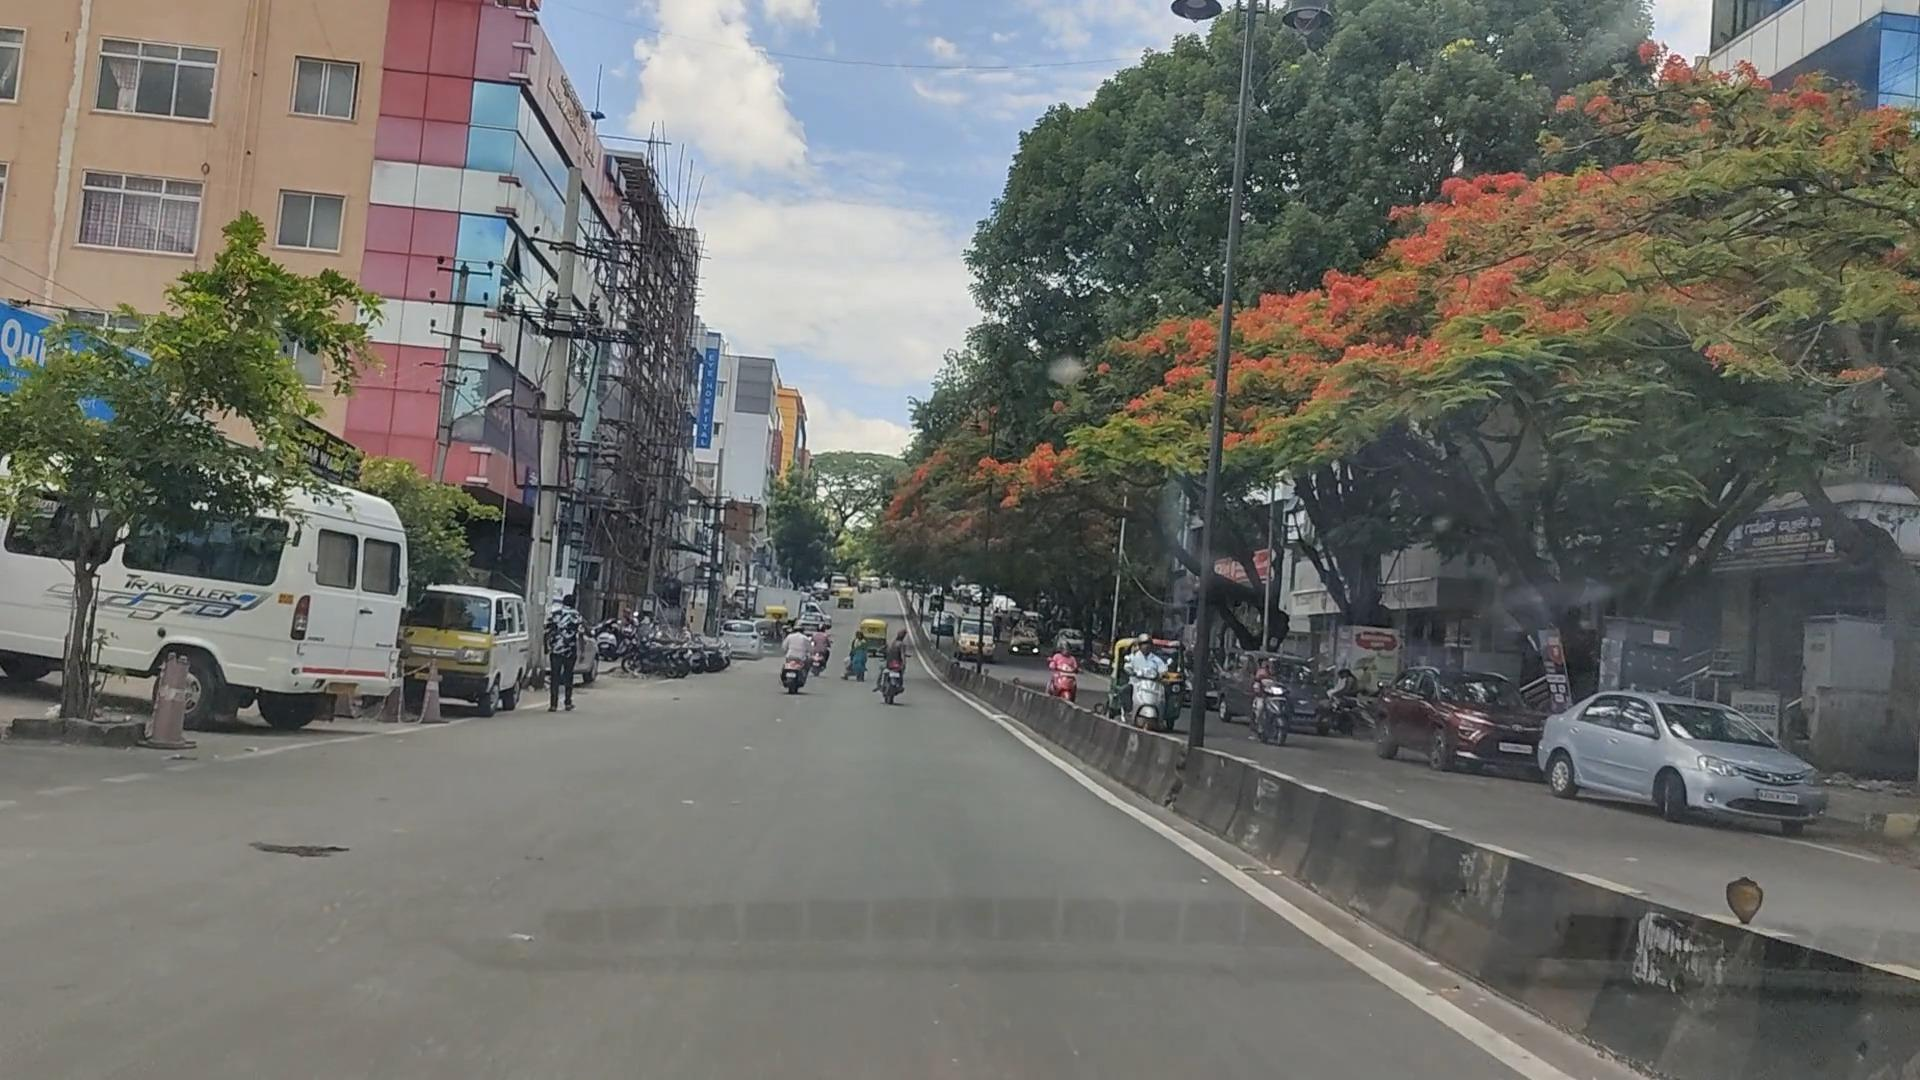RoadDamages: (256, 798, 380, 878)
